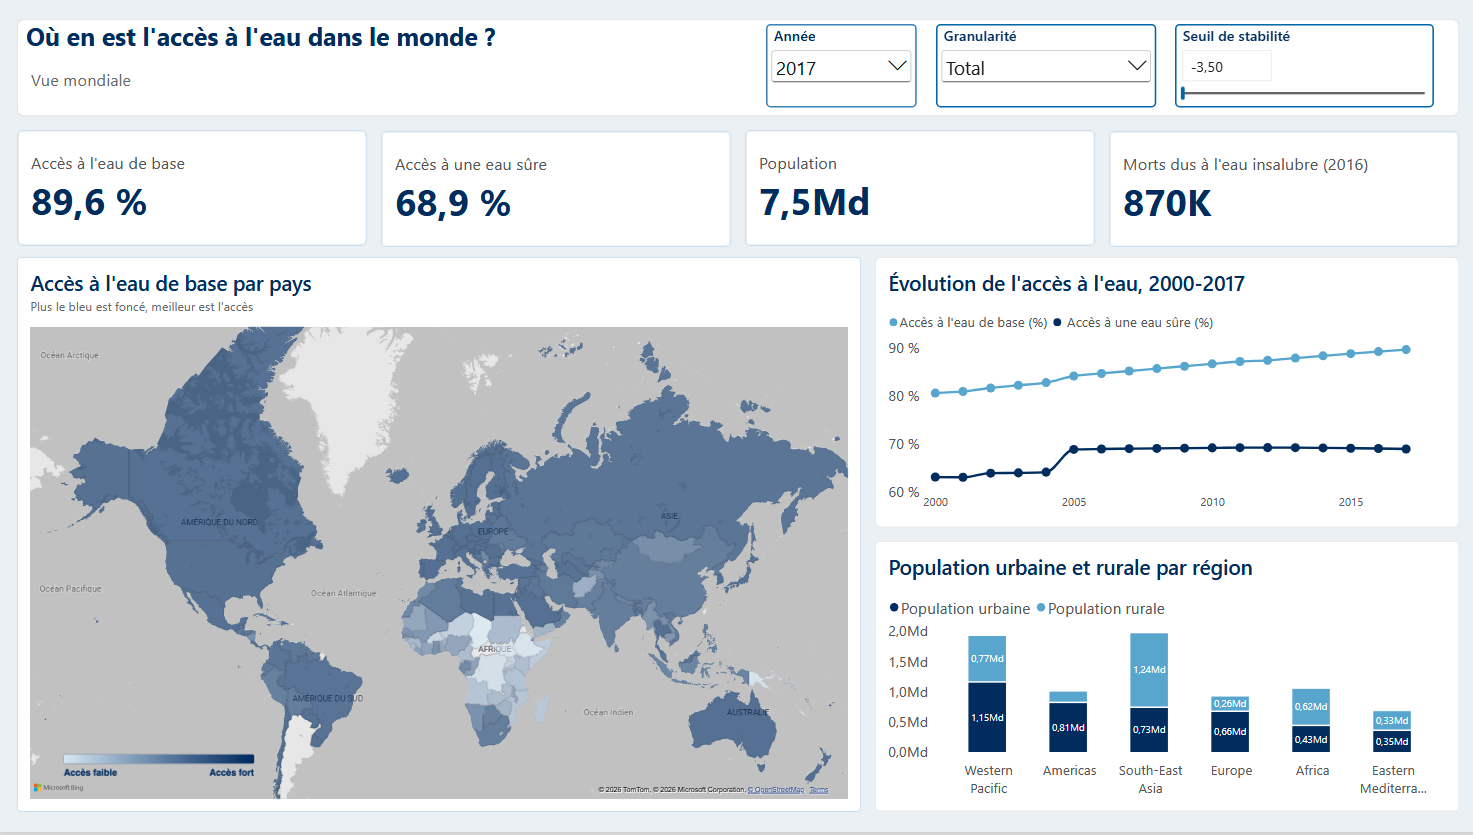

The page's visual inventory and layout, read from the dashboard file:
{"tool":"powerbi","page":{"name":"Monde","canvas":[1920,1080],"ordinal":0},"visuals":[{"type":"filledMap","title":"Accès à l''eau de base par pays","fields":{"Category":["Pays.Nom_carte"]},"box":[27,335,1092,718],"z":0},{"type":"shape","box":[27.1,27,1866,126],"z":1000},{"type":"cardVisual","title":"Accès à l''eau de base","fields":{"Data":["Eau.Acces eau base (%)"]},"box":[27,171,453,150],"z":2000},{"type":"slicer","fields":{"Values":["Seuil stabilite.Seuil stabilite"]},"box":[1525,33.3,335,108.3],"z":3000},{"type":"cardVisual","title":"Population","fields":{"Data":["Population.Population totale"]},"box":[969,171,453,150],"z":4000},{"type":"slicer","title":"Année","fields":{"Values":["Annee.Year"]},"box":[996.7,33.3,195,108.3],"z":5000},{"type":"cardVisual","title":"Morts dus à l''eau insalubre (2016)","fields":{"Data":["Mortalite.Deces (2016)"]},"box":[1440,171.7,453,150],"z":6000},{"type":"slicer","title":"Granularité","fields":{"Values":["Eau.Granularity"]},"box":[1216.7,33.3,285,108.3],"z":7000},{"type":"cardVisual","title":"Accès à une eau sûre","fields":{"Data":["Eau.Acces eau sure (%)"]},"box":[498,171.7,453,150],"z":8000},{"type":"textbox","box":[38.2,27,632.5,98.8],"z":9000},{"type":"lineChart","title":"Évolution de l''accès à l''eau, 2000-2017","fields":{"Category":["Annee.Year"],"Y":["Eau.Acces eau base (%)","Eau.Acces eau sure (%)"]},"box":[1137,335,756,350],"z":10000},{"type":"textbox","box":[45,90,678.3,51.7],"z":11000},{"type":"columnChart","title":"Population urbaine et rurale par région","fields":{"Category":["Pays.Region"],"Y":["Population.Population urbaine","Population.Population rurale"]},"box":[1137,703,756,350],"z":12000},{"type":"image","box":[80,970,261.2,46.2],"z":13000}]}

Visuals, with their boxes in screenshot pixels (x1, y1, x2, y2), scaled from the page's 1920x1080 canvas onto the 1473x835 screenshot:
"Accès à l''eau de base par pays" filledMap: 21 259 858 814
shape: 21 21 1452 118
"Accès à l''eau de base" cardVisual: 21 132 368 248
slicer - Seuil stabilite.Seuil stabilite: 1170 26 1427 109
"Population" cardVisual: 743 132 1091 248
"Année" slicer: 765 26 914 109
"Morts dus à l''eau insalubre (2016)" cardVisual: 1105 133 1452 249
"Granularité" slicer: 933 26 1152 109
"Accès à une eau sûre" cardVisual: 382 133 730 249
textbox: 29 21 515 97
"Évolution de l''accès à l''eau, 2000-2017" lineChart: 872 259 1452 530
textbox: 35 70 555 110
"Population urbaine et rurale par région" columnChart: 872 544 1452 814
image: 61 750 262 786
